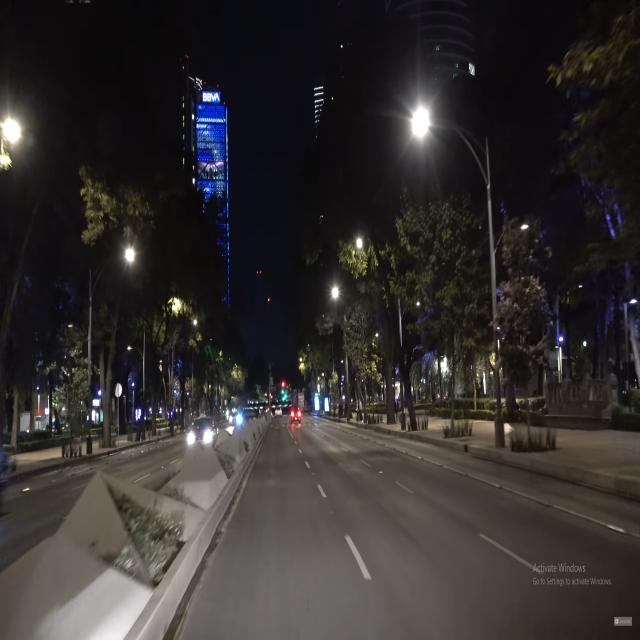headlights: (181, 425, 218, 452)
